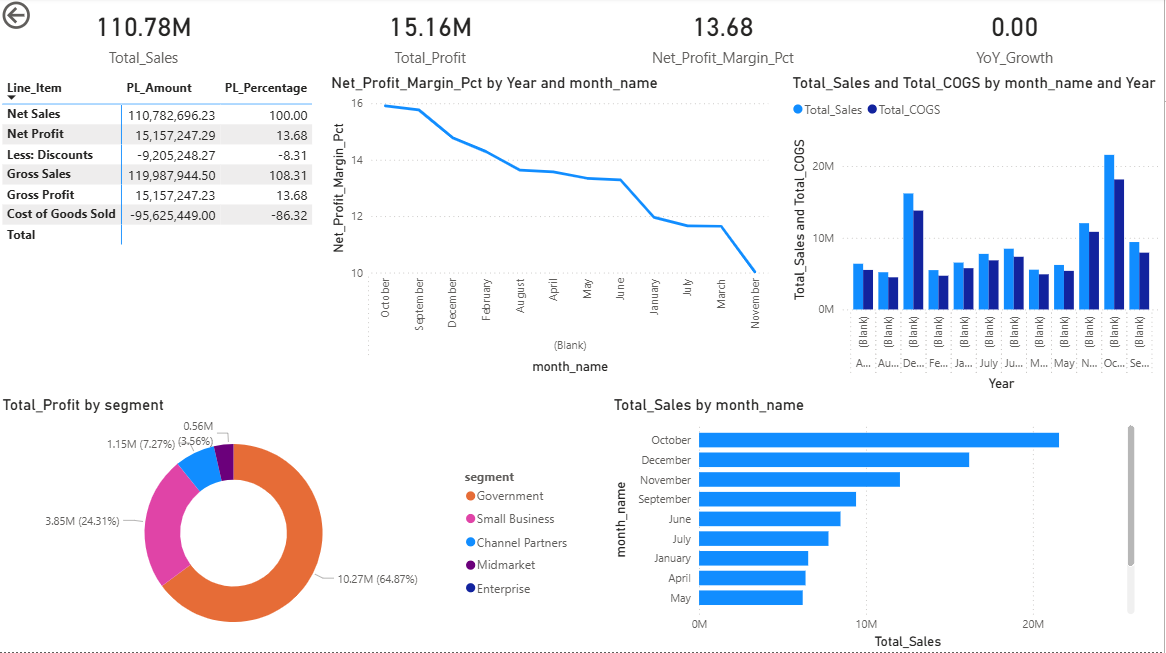

The page's visual inventory and layout, read from the dashboard file:
{"tool":"powerbi","page":{"name":"Page 1","canvas":[1280,720],"ordinal":0},"visuals":[{"type":"card","fields":{"Values":["_Measures.Total_Sales"]},"box":[0,0,319.7,83.7],"z":0},{"type":"card","fields":{"Values":["_Measures.Total_Profit"]},"box":[337.6,0,274.4,83.7],"z":1000},{"type":"card","fields":{"Values":["_Financial_Ratios.Net_Profit_Margin_Pct"]},"box":[629.8,0,303.3,83.7],"z":2000},{"type":"card","fields":{"Values":["_Time_Intelligence.Sales_YoY_Growth"]},"box":[952.3,0,328,83.7],"z":3000},{"type":"pivotTable","fields":{"Rows":["PL_Line_Items.Line_Item"],"Values":["PL_Line_Items.PL_Amount","PL_Line_Items.PL_Percentage"]},"box":[0,100.2,360.9,344.4],"z":4000},{"type":"actionButton","box":[0,0,100,40],"z":5000},{"type":"lineChart","fields":{"Category":["Date_Dimension.Year","financial_operations_db fact_sales.month_name"],"Y":["_Financial_Ratios.Net_Profit_Margin_Pct"]},"box":[373.2,100.2,478.9,344.4],"z":6000},{"type":"clusteredColumnChart","fields":{"Category":["financial_operations_db fact_sales.month_name","Date_Dimension.Year"],"Y":["_Measures.Total_Sales","_Measures.Total_COGS"]},"box":[860.4,100.2,419.9,344.4],"z":7000},{"type":"donutChart","fields":{"Category":["financial_operations_db fact_sales.segment"],"Y":["_Measures.Total_Profit"]},"box":[26.1,466.6,585.9,231.9],"z":8000},{"type":"clusteredBarChart","fields":{"Category":["financial_operations_db fact_sales.month_name"],"Y":["_Measures.Total_Sales"]},"box":[653.2,466.6,584.6,230.5],"z":9000}]}

Visuals, with their boxes in screenshot pixels (x1, y1, x2, y2), scaled from the page's 1280x720 canvas onto the 1166x653 screenshot:
card - _Measures.Total_Sales: l=0, t=0, r=291, b=76
card - _Measures.Total_Profit: l=308, t=0, r=557, b=76
card - _Financial_Ratios.Net_Profit_Margin_Pct: l=574, t=0, r=850, b=76
card - _Time_Intelligence.Sales_YoY_Growth: l=867, t=0, r=1165, b=76
pivotTable - PL_Line_Items.Line_Item x PL_Line_Items.PL_Amount: l=0, t=91, r=329, b=403
actionButton: l=0, t=0, r=91, b=36
lineChart - Date_Dimension.Year x financial_operations_db fact_sales.month_name: l=340, t=91, r=776, b=403
clusteredColumnChart - financial_operations_db fact_sales.month_name x Date_Dimension.Year: l=784, t=91, r=1165, b=403
donutChart - financial_operations_db fact_sales.segment x _Measures.Total_Profit: l=24, t=423, r=557, b=634
clusteredBarChart - financial_operations_db fact_sales.month_name x _Measures.Total_Sales: l=595, t=423, r=1128, b=632
